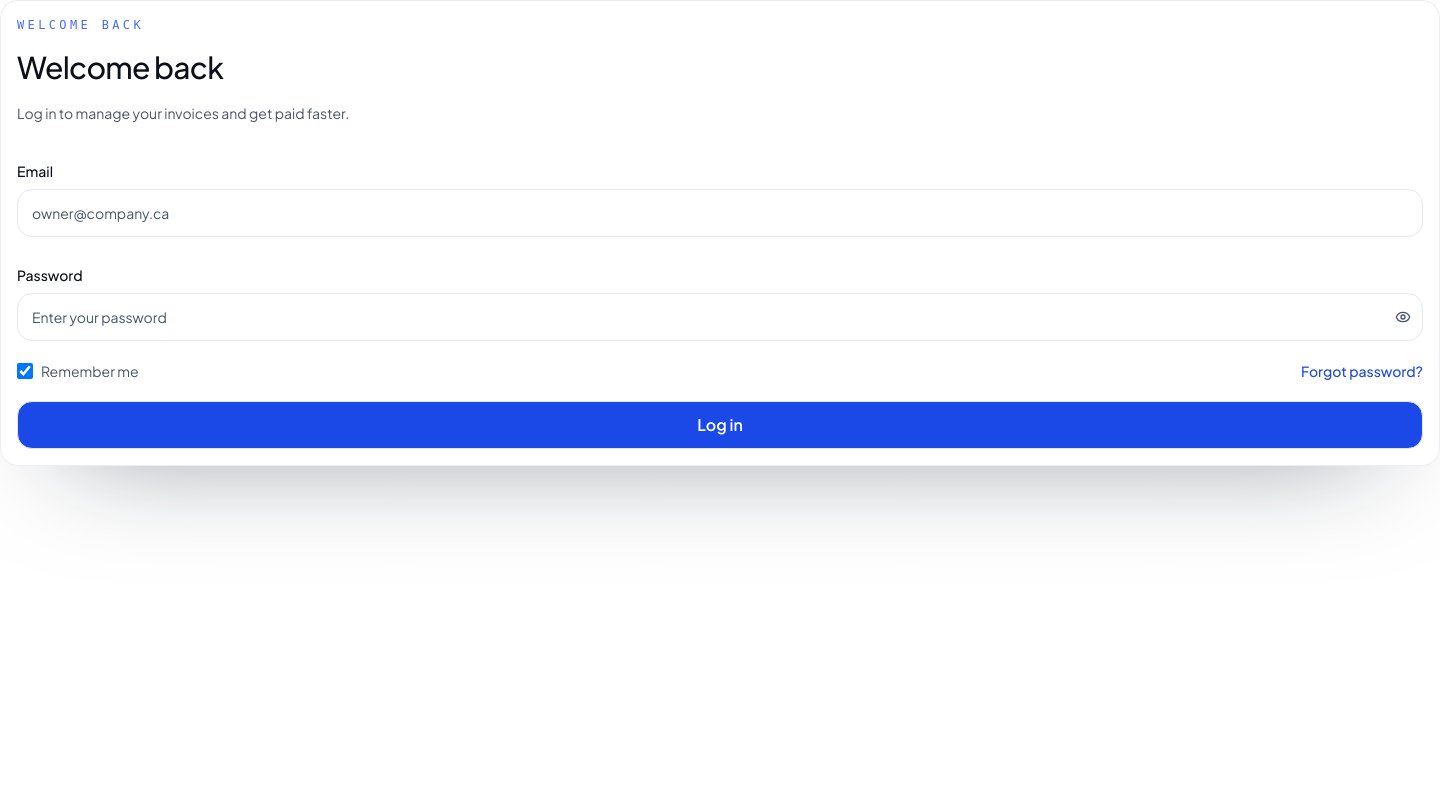
Feature: User Login › Scenario: Login fails with the wrong password
Type "owner@nltinvoice.com" into the field labelled "Email".
click(720, 213); type("owner@nltinvoice.com")  # box [17,189,1423,237]
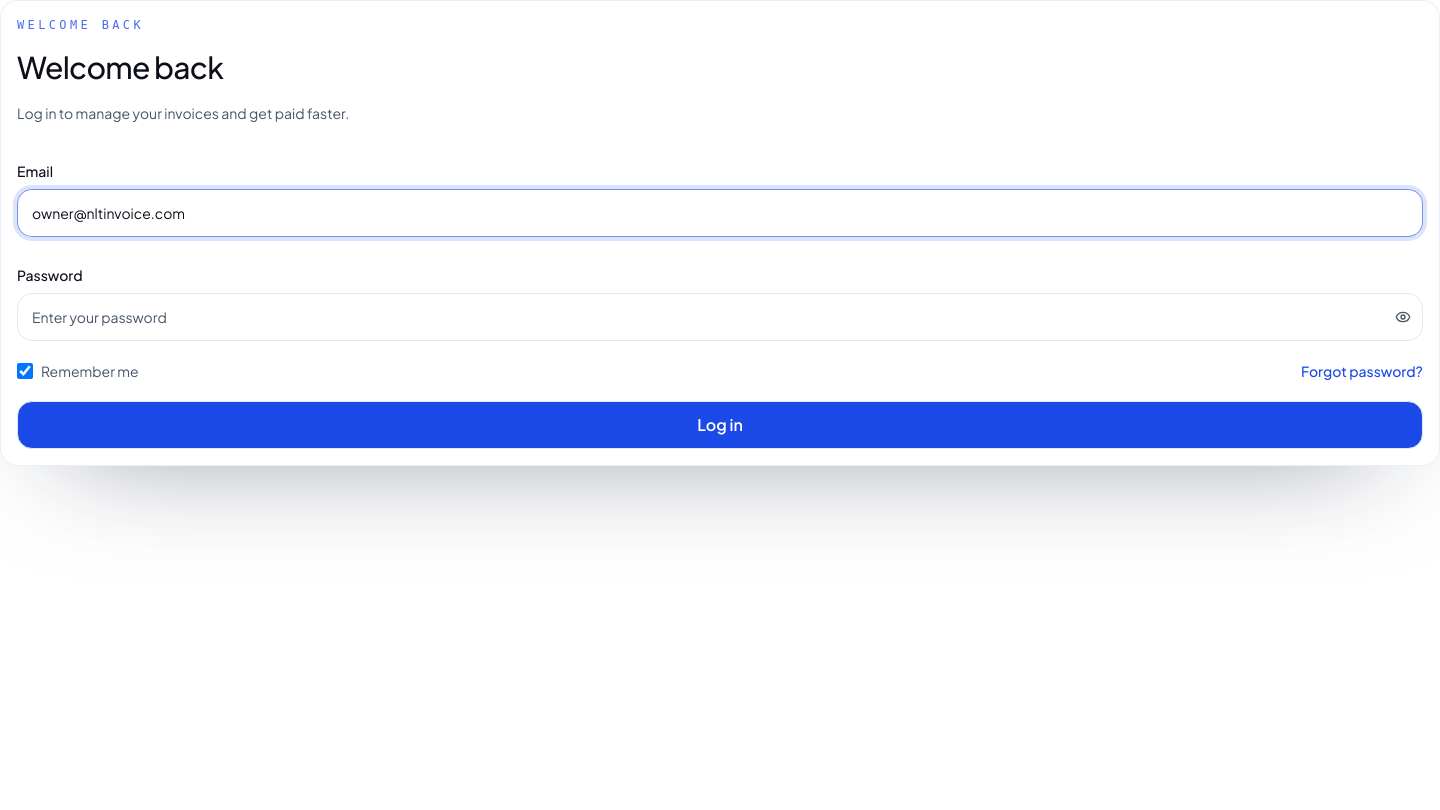
Type "WrongPass123" into the password field labelled "Password".
click(720, 317); type("WrongPass123")  # box [17,293,1423,341]
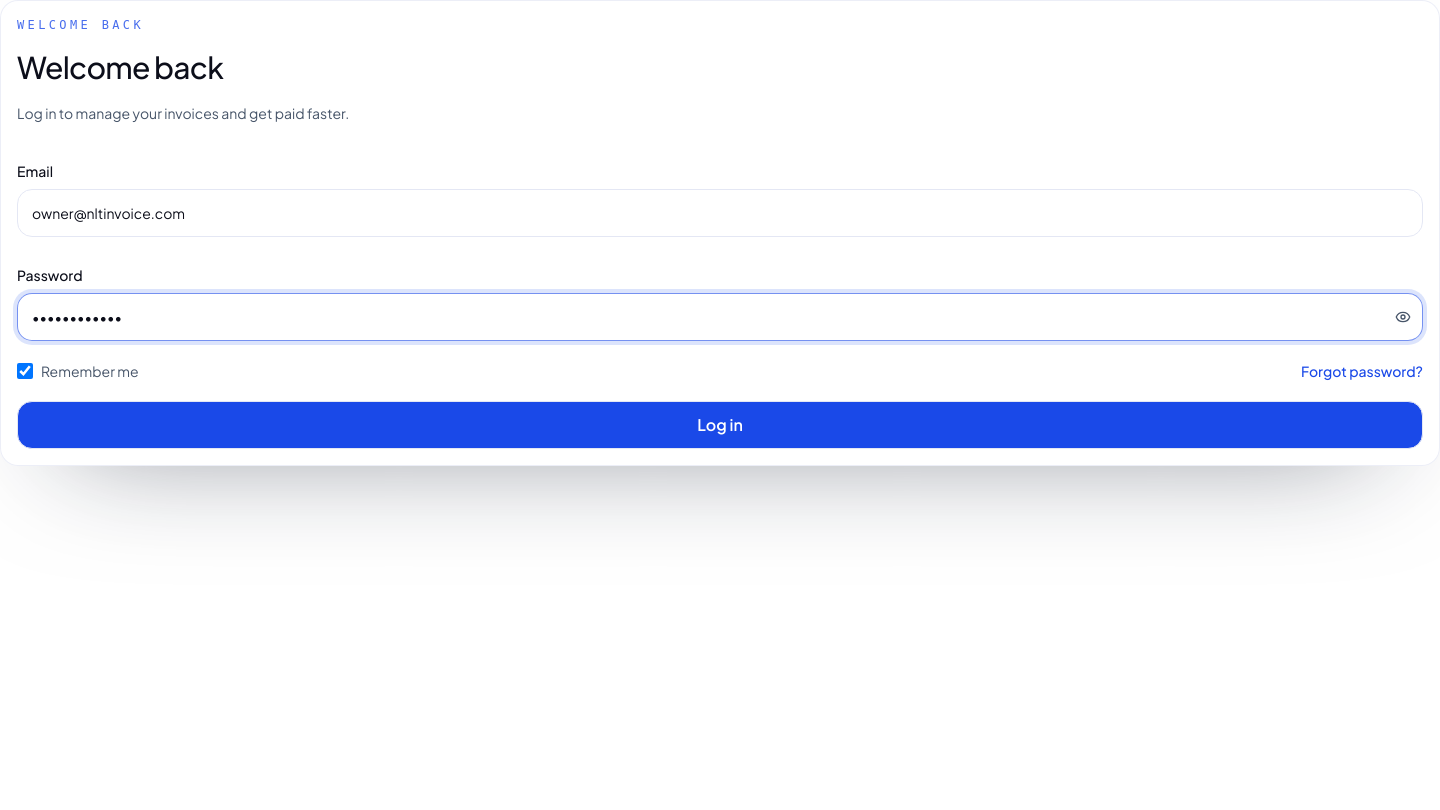
Click the button "Log in".
click(720, 425)  # box [17,401,1423,449]
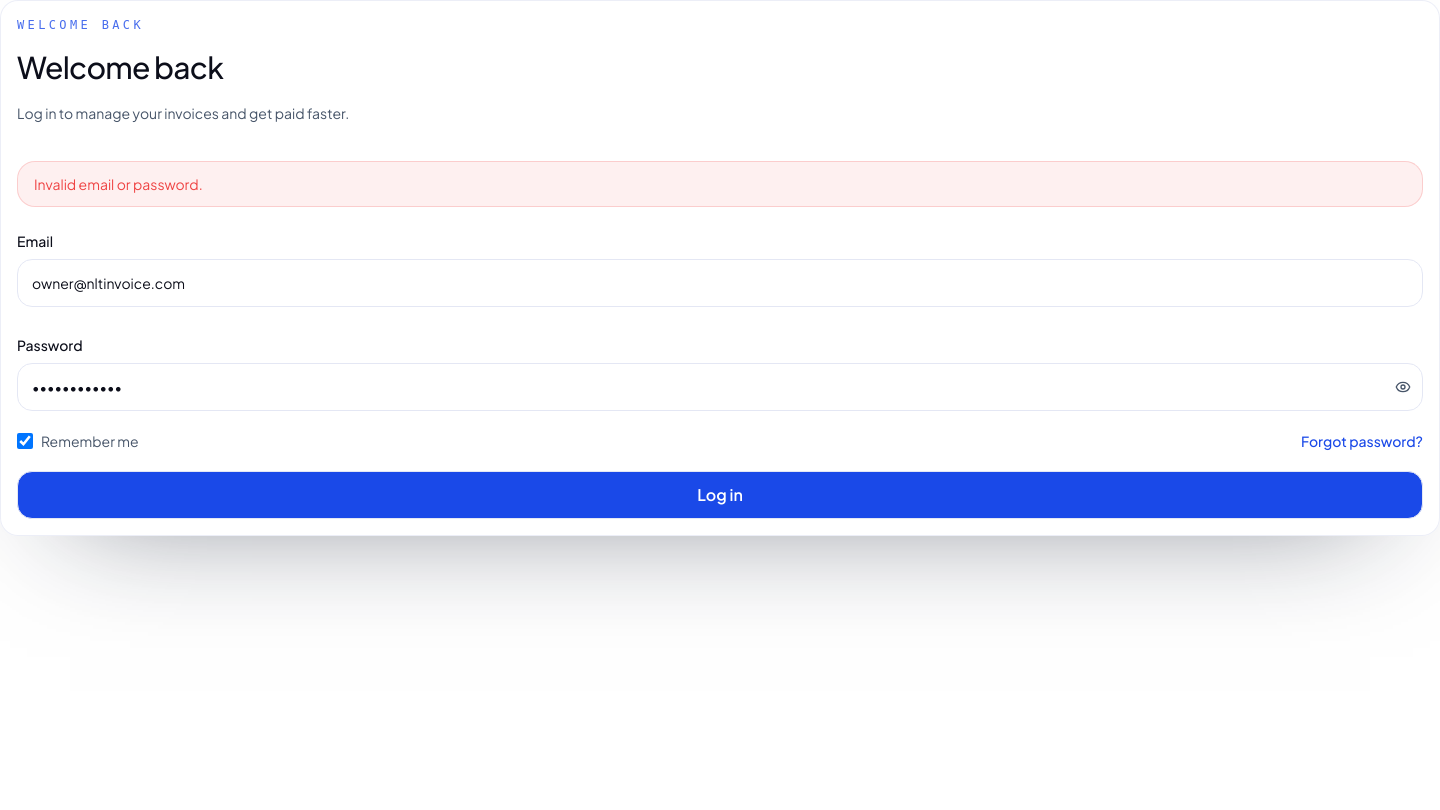
Expected: the text "Invalid email or password." is shown, [17,161,1423,207]
